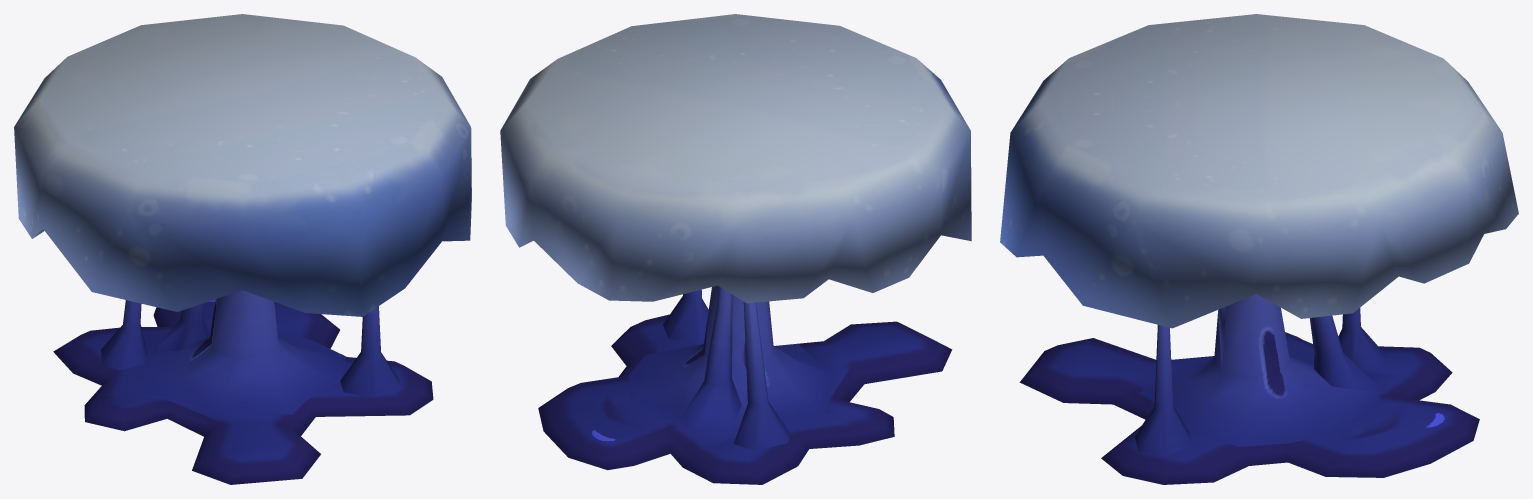
Rendered from furn_do2022_table.gltf.
3 renders of one model, left to right at view 1: azimuth 30°, elevation 25°; view 2: azimuth 150°, elevation 25°; view 3: azimuth 270°, elevation 25°, orthographic. The views are drawn at different scales.
Visible parts, largest first — view 1: do2022_table; view 2: do2022_table; view 3: do2022_table.
Boxes of the visible parts, left/top/right/bottom form: do2022_table: left=14, top=14, right=471, bottom=484; do2022_table: left=500, top=14, right=971, bottom=484; do2022_table: left=1000, top=14, right=1518, bottom=484.
Size of the model in its own units: 0.7128 by 0.4874 by 0.7516.
Materials: 1 (1 with a texture image).
